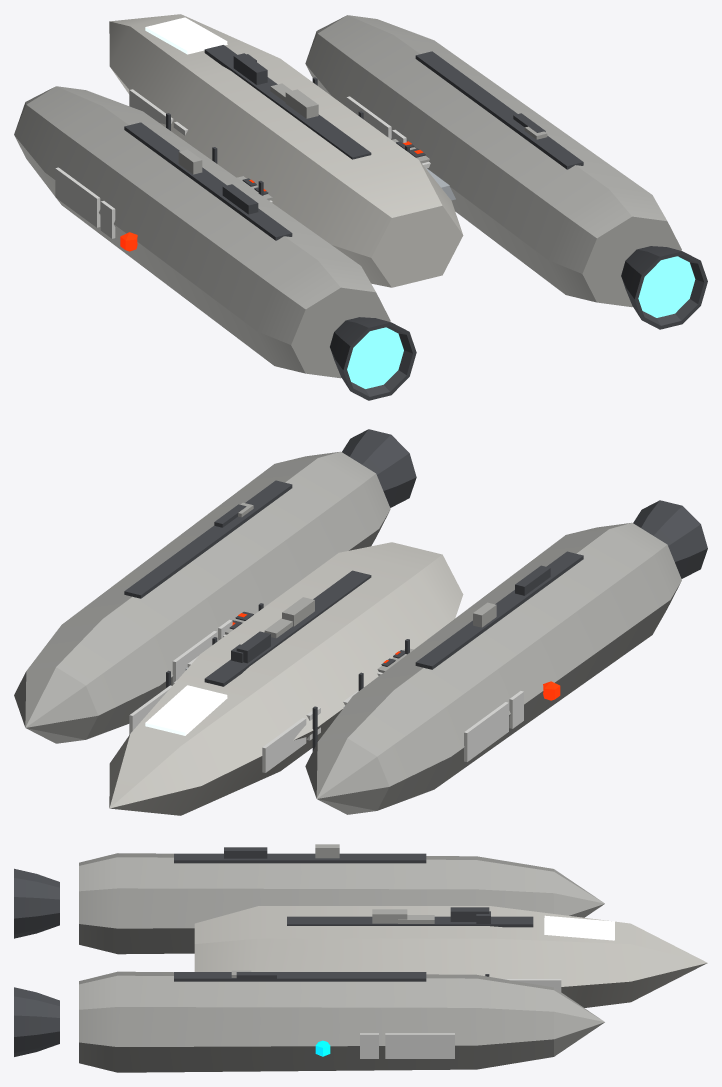
File: bomber.glb
3 views of the same model, one above another, from view 1: azimuth 30°, elevation 25°; view 2: azimuth 150°, elevation 25°; view 3: azimuth 270°, elevation 25° (orthographic). The views are drawn at different scales.
Visible parts, largest first — view 1: Hull; view 2: Hull; view 3: Hull.
Part boxes in pixels (x1,y1,x2,y2): Hull: [14, 14, 707, 400]; Hull: [14, 429, 707, 815]; Hull: [14, 844, 707, 1072].
Size of the model in its own units: 1.21 by 0.3293 by 2.
